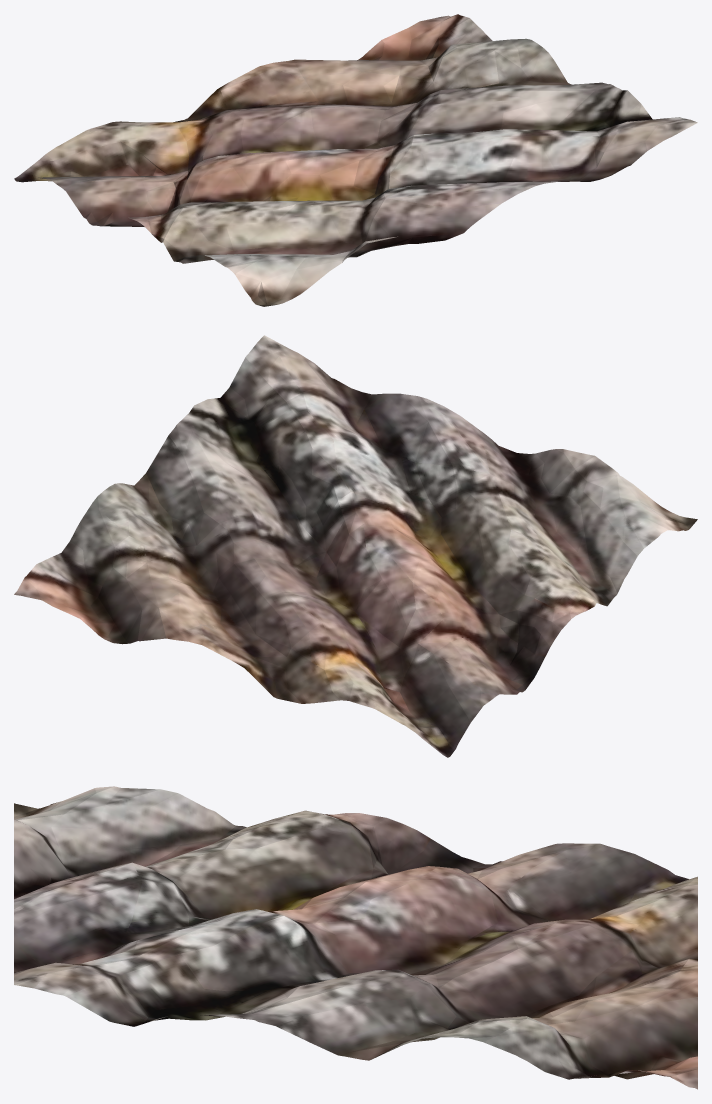
The picture shows the model from 3 angles, top to bottom: view 1: azimuth 30°, elevation 25°; view 2: azimuth 150°, elevation 25°; view 3: azimuth 270°, elevation 25°; orthographic projection. The views are drawn at different scales.
Size of the model in its own units: 0.8373 by 0.2482 by 0.8374.
Materials: 3 (3 with a texture image).
